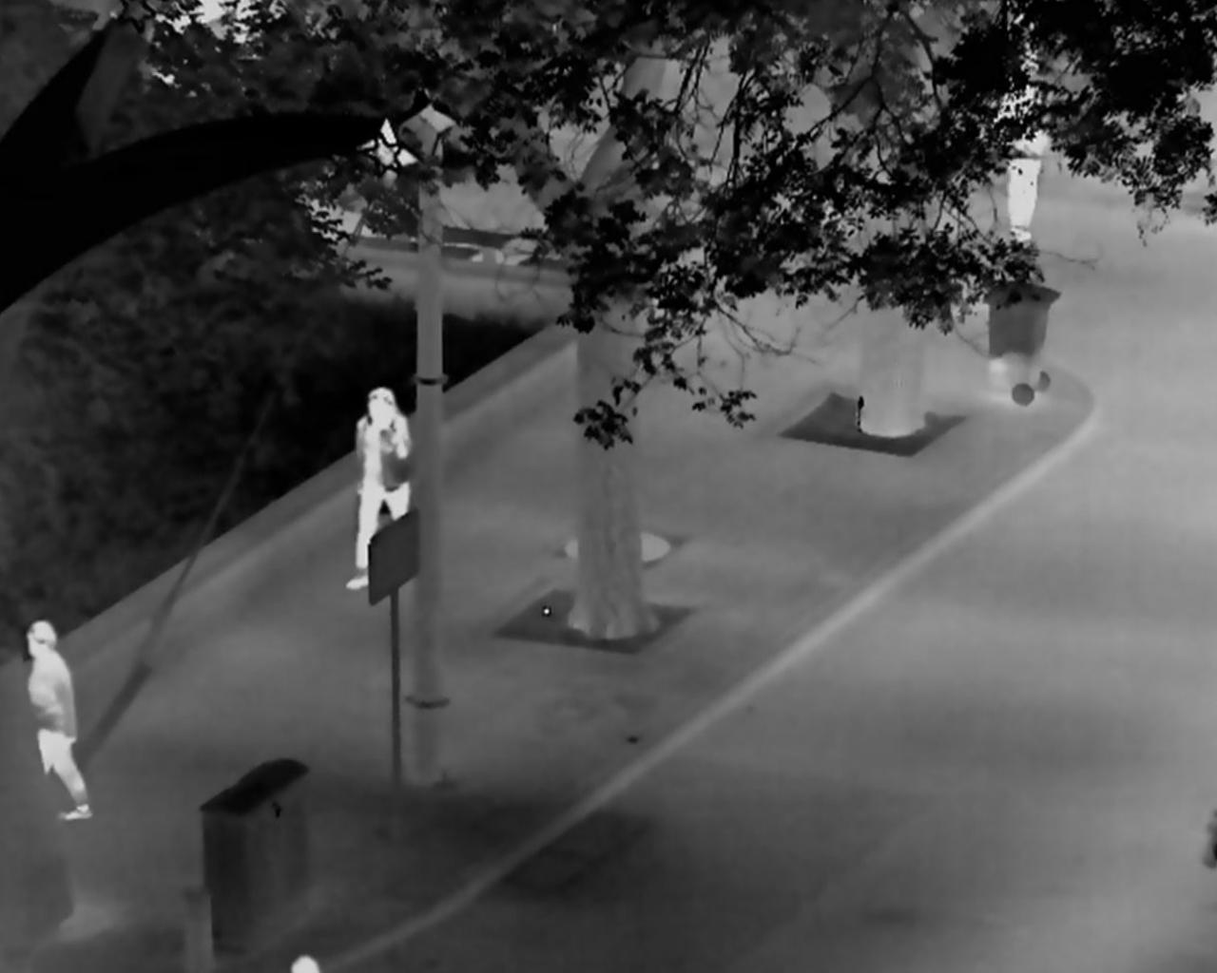person: (345, 384, 413, 591), (24, 618, 92, 823), (991, 65, 1044, 244)
